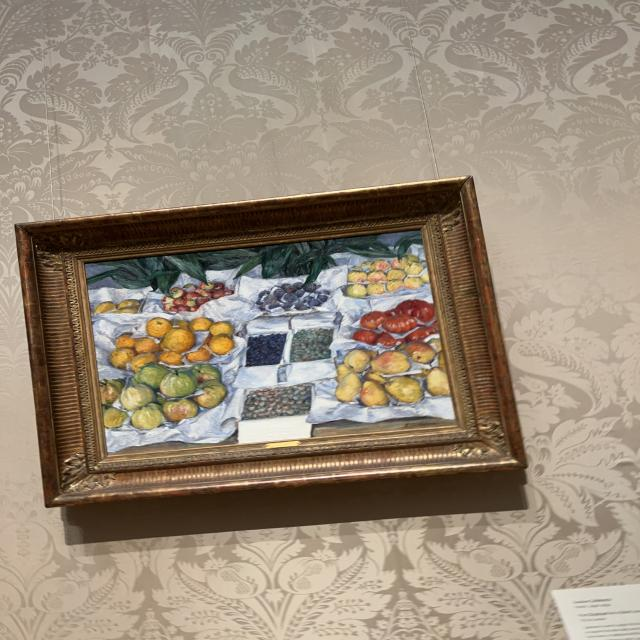fruits: (83, 229, 458, 456)
